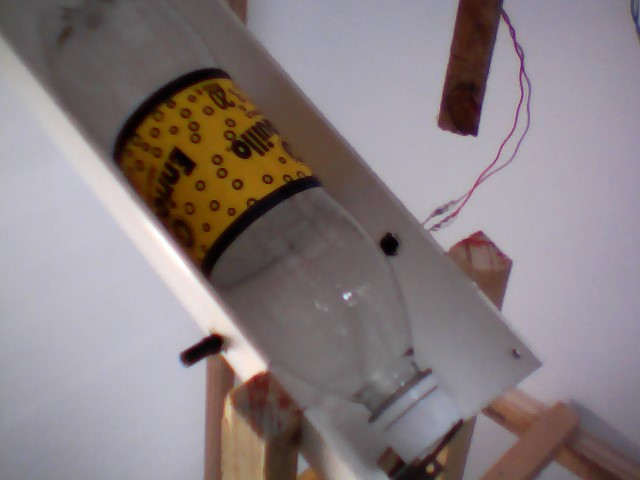plastico: (31, 1, 475, 470)
